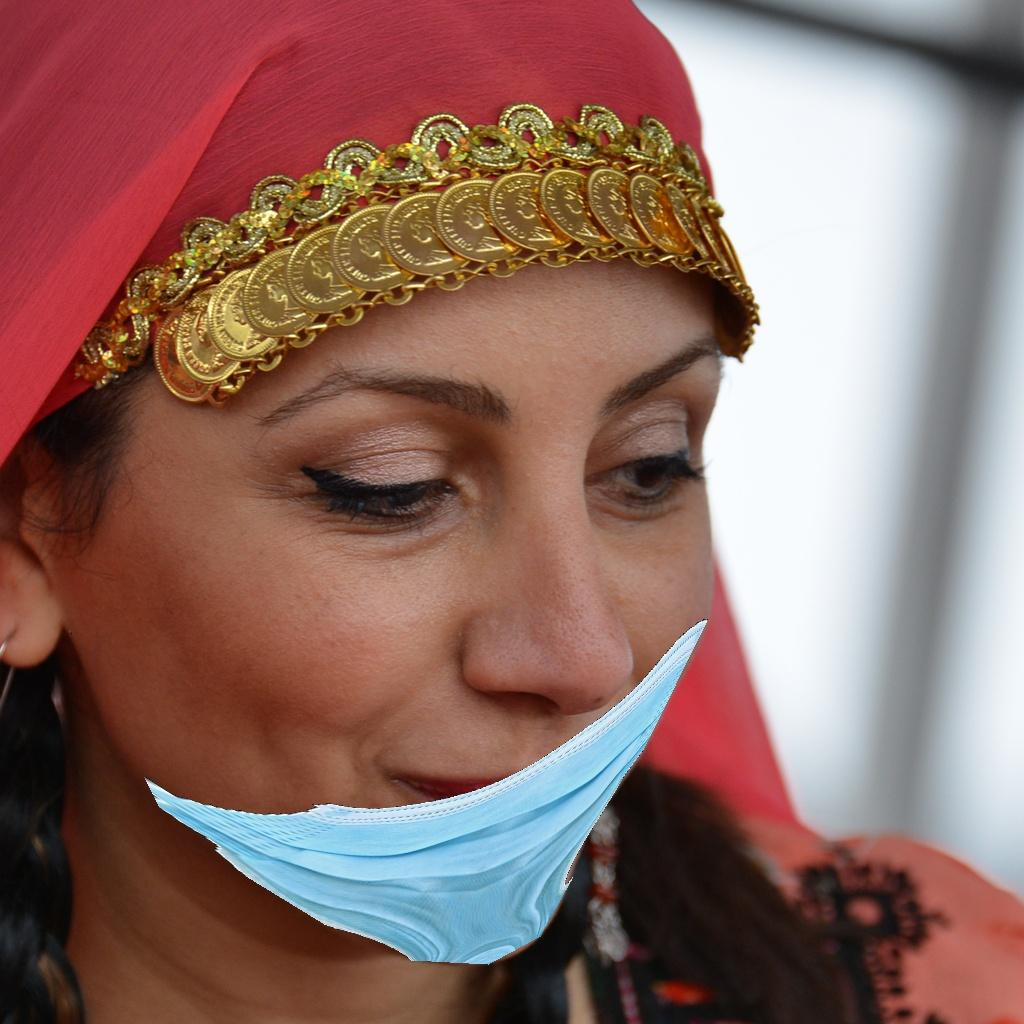Máscara Incorreta: (133, 275, 721, 964)
